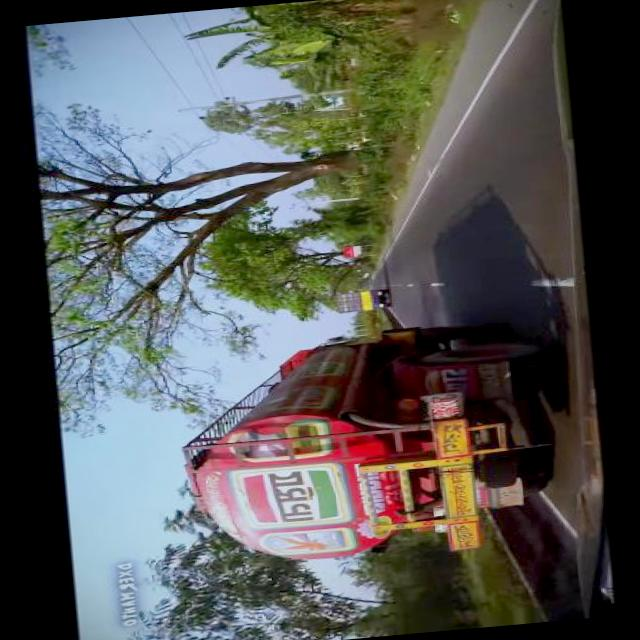truck: (165, 310, 577, 574), (326, 284, 394, 314)
